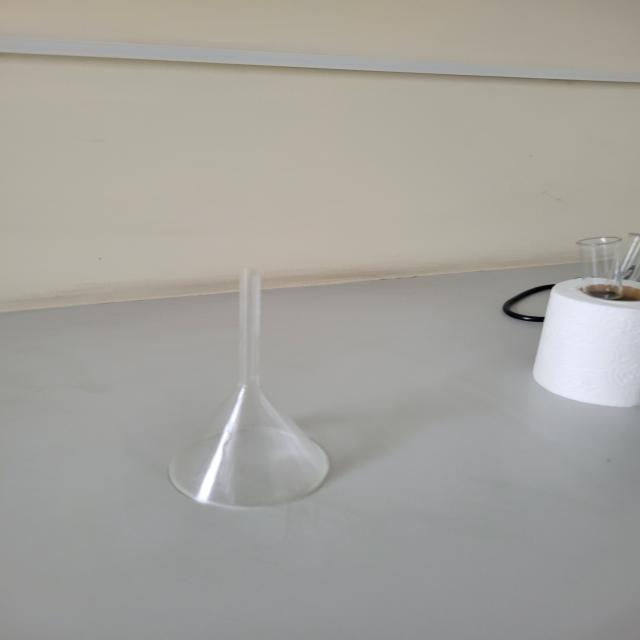Funnel: (140, 226, 353, 528)
